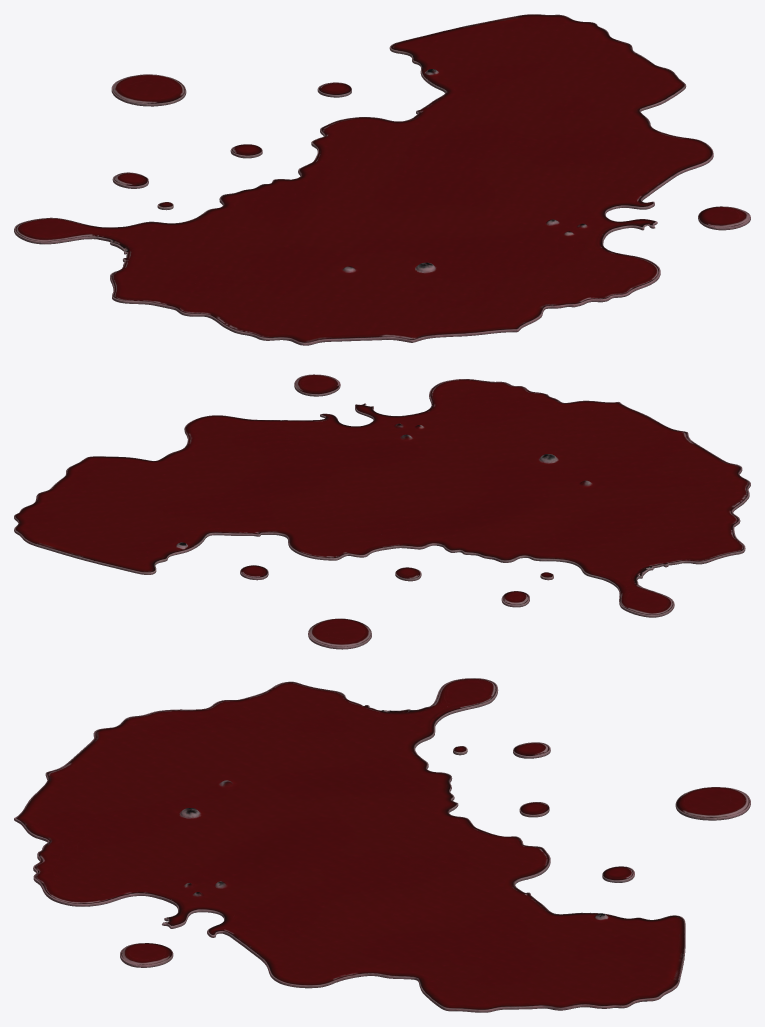
File: blood_pool.glb
3 renders of one model, top to bottom at view 1: azimuth 30°, elevation 25°; view 2: azimuth 150°, elevation 25°; view 3: azimuth 270°, elevation 25°, orthographic. The views are drawn at different scales.
Parts seen in each view (by area): view 1: mesh_node; view 2: mesh_node; view 3: mesh_node.
Boxes of the visible parts, left/top/right/bottom form: mesh_node: left=14, top=14, right=750, bottom=345; mesh_node: left=14, top=374, right=750, bottom=649; mesh_node: left=14, top=678, right=750, bottom=1012.
Size of the model in its own units: 1.9 by 0.023 by 1.78.
1 material, 1 textured.
